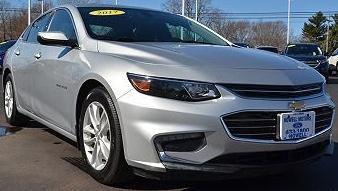Cars: (4, 7, 336, 185)
